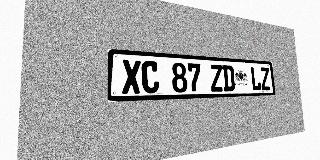7: (187, 63, 202, 92)
8: (171, 62, 187, 93)
C: (141, 60, 159, 93)
D: (222, 65, 235, 91)
L: (250, 67, 261, 91)
X: (122, 59, 141, 94)
Z: (210, 64, 223, 92), (260, 67, 270, 90)
